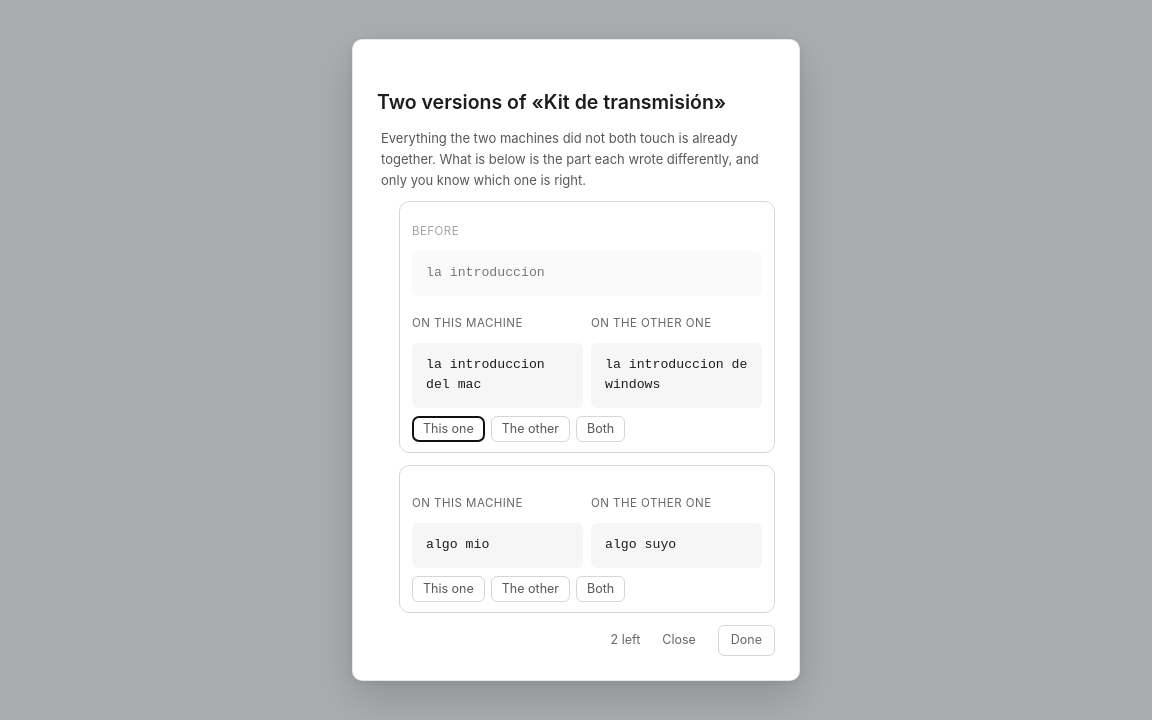
Scenario: deciding a document block by block › says how many are left, so nobody hunts for the one they missed
Check: the text "2 left" is shown, box [610,630,640,651]
Click the button "This one" below "Before": (448, 429) [412,416,485,442]
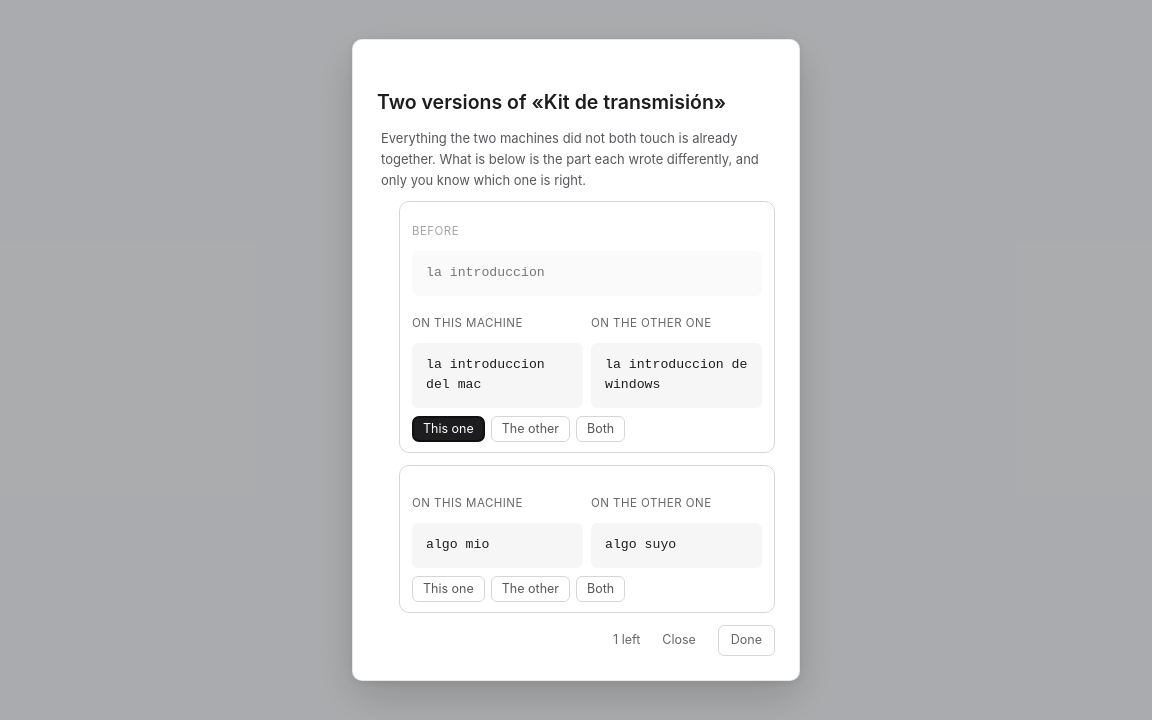
Check: the text "1 left" is shown, box [613,630,640,651]
